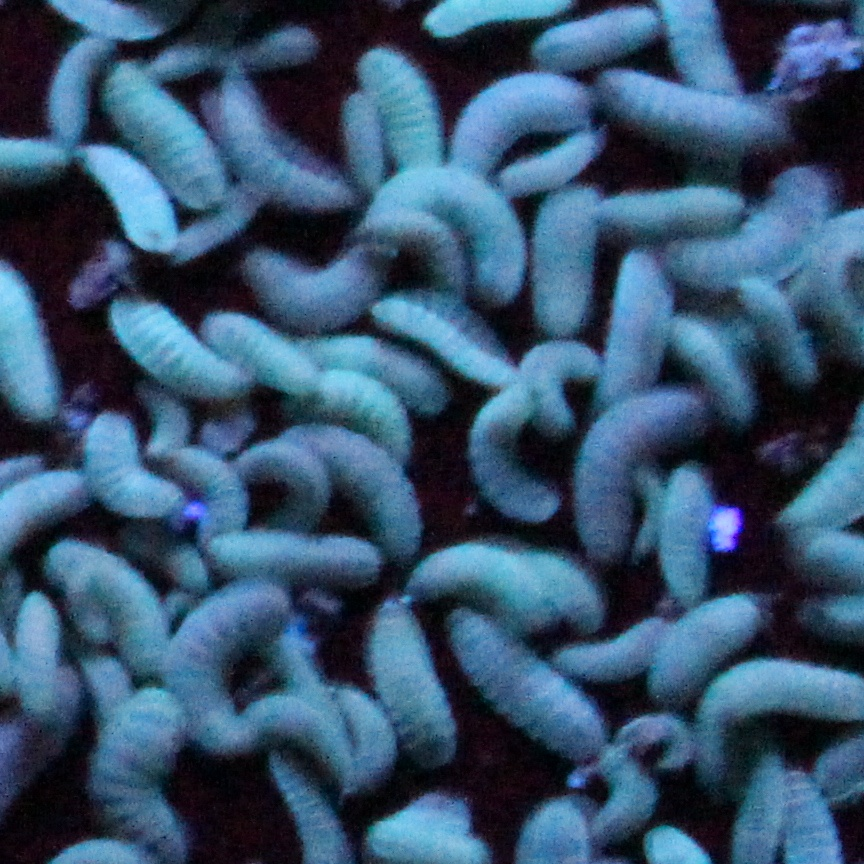larve: (465, 629, 584, 755), (613, 78, 787, 163), (373, 615, 459, 766), (180, 596, 262, 742), (323, 424, 423, 539), (73, 410, 184, 507), (121, 304, 232, 400), (228, 240, 376, 312), (87, 129, 173, 244), (233, 85, 329, 181), (459, 185, 528, 315), (469, 407, 547, 515), (575, 422, 633, 562), (535, 202, 596, 332), (162, 449, 241, 539), (461, 78, 589, 133), (384, 22, 432, 163), (663, 463, 711, 601), (609, 256, 661, 382), (248, 446, 330, 524), (750, 172, 818, 266), (323, 382, 427, 442), (2, 467, 66, 564), (436, 546, 523, 615), (238, 321, 314, 396), (412, 306, 498, 371), (93, 65, 178, 127), (666, 605, 718, 702), (19, 585, 59, 703), (609, 191, 729, 229), (533, 26, 645, 66), (488, 141, 598, 181), (681, 316, 741, 389), (332, 89, 376, 185), (50, 39, 90, 141), (765, 283, 803, 375), (535, 559, 595, 615), (367, 209, 453, 248), (248, 27, 327, 67), (582, 636, 663, 675), (751, 758, 776, 855)
